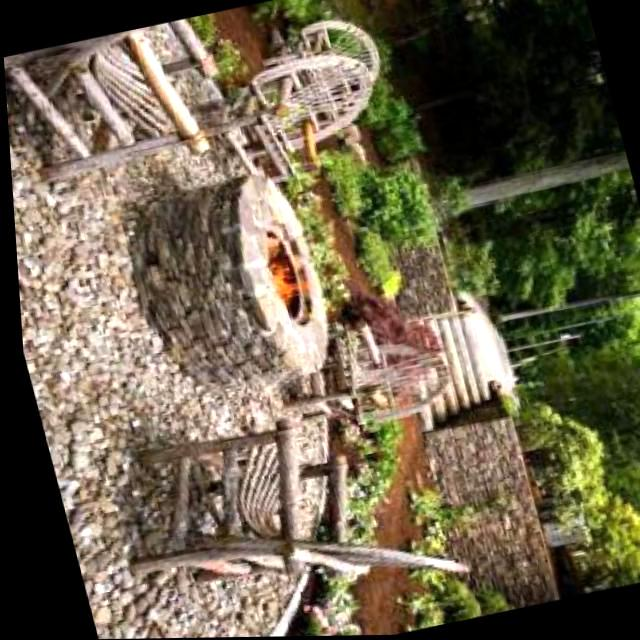fire: (253, 247, 330, 309)
